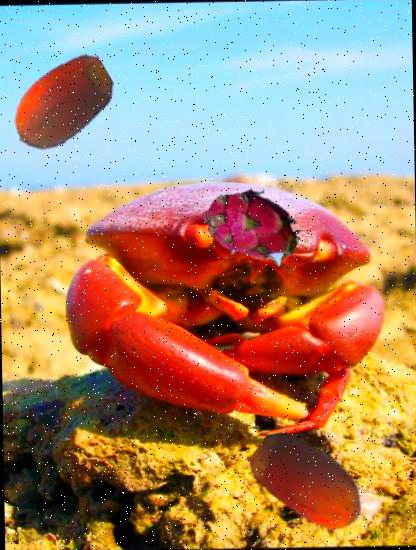Hazelnut: (246, 416, 376, 545), (5, 48, 118, 160)
Pitahaya: (200, 172, 303, 275)
